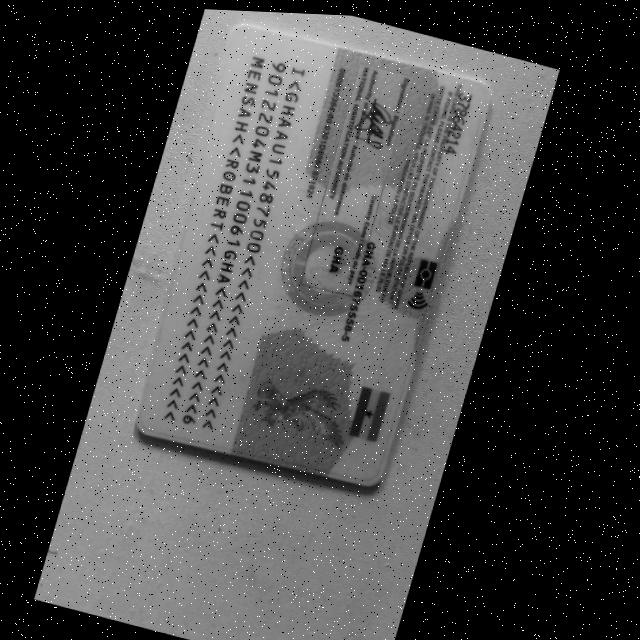card: (137, 26, 489, 486)
